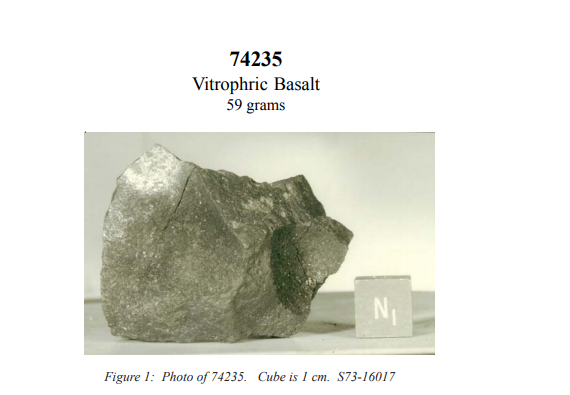Basalt: (104, 153, 330, 337), (154, 202, 302, 304)
